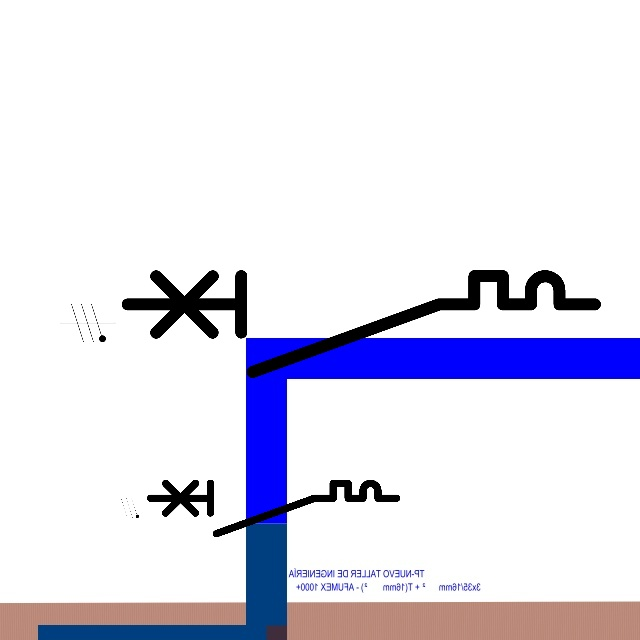interruptor_termomagnetico: (115, 264, 606, 384), (144, 477, 402, 540)
